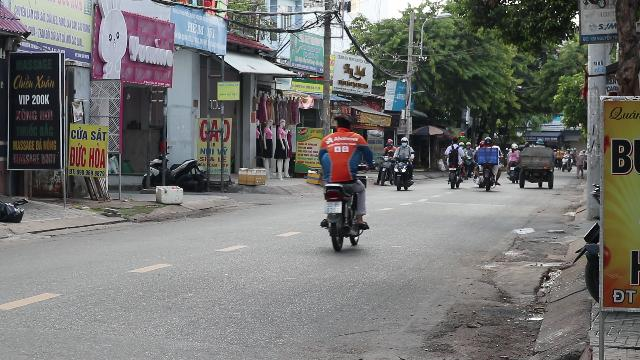licenseplate: (326, 202, 342, 213)
motorcyclist: (316, 114, 374, 250)
nohelmet: (333, 114, 353, 132)
